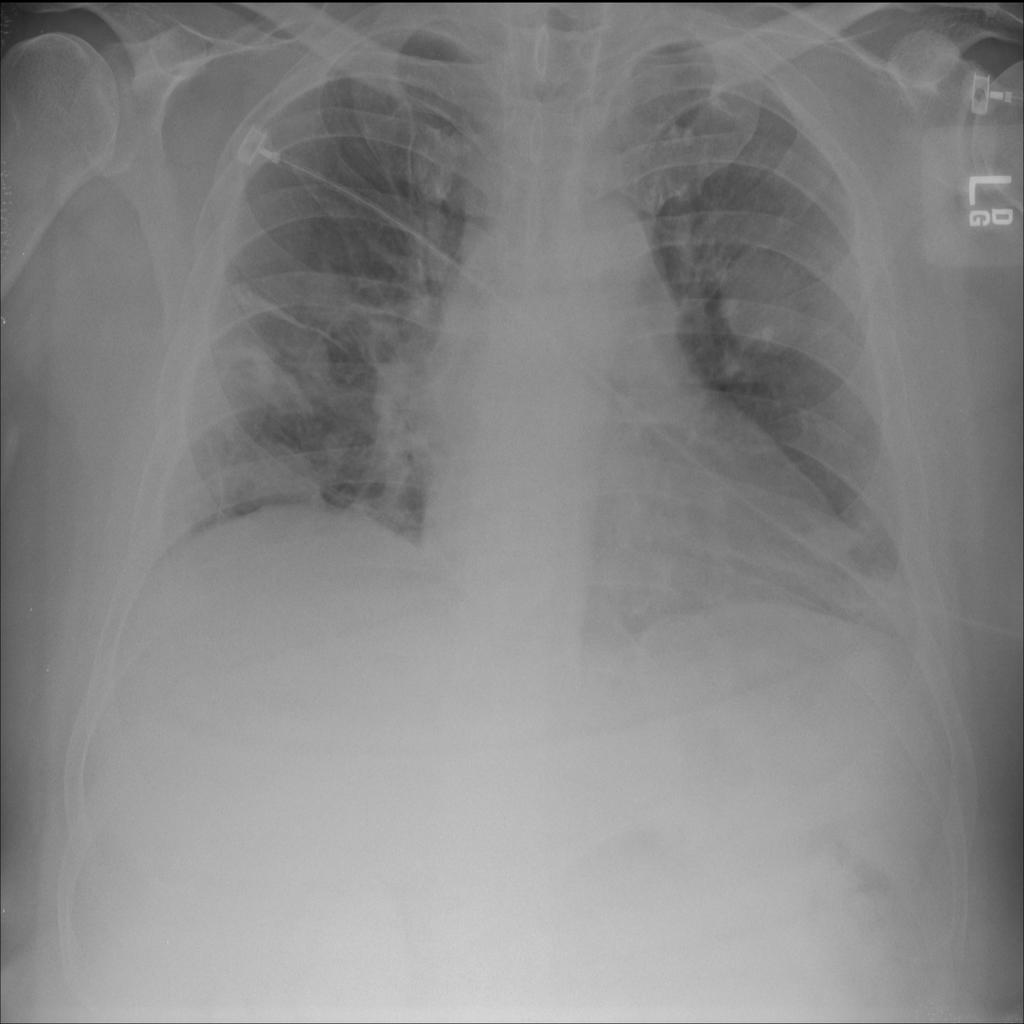nodule: (712, 226, 825, 369)
